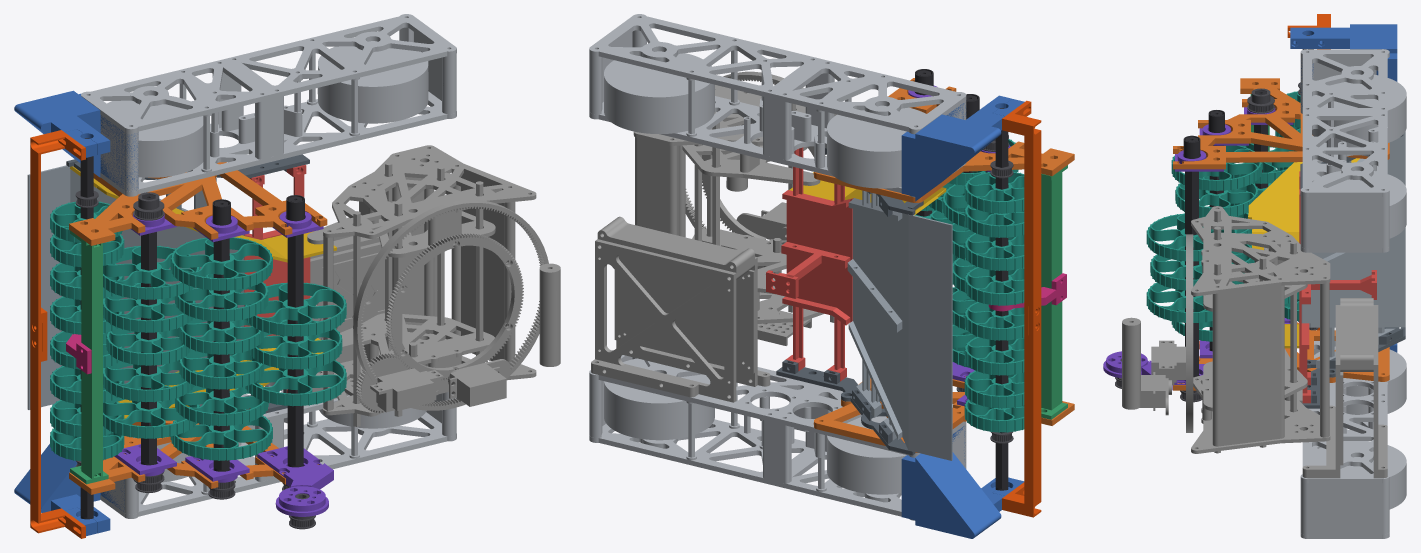
Rendered from Scrimmage_bot.fbx.
3 views of the same model, side by side, from view 1: azimuth 30°, elevation 25°; view 2: azimuth 150°, elevation 25°; view 3: azimuth 270°, elevation 25° (orthographic). The views are drawn at different scales.
Visible parts, largest first — view 1: Body1 (×66), outer_2, support_back, inner_1, Body2 (×2), spinner, support_motor_v2, hub mount, plate (1), inner_1 (1), outer_1, inner_wall_2 (1) (+2 smaller); view 2: Body1 (×47), hub mount, plate, support_motor_v2, center joint, inner_1 (1), plate (1), inner_1, lower mount, outer_2, outer_1, ball stopper (+2 smaller); view 3: Body1 (×35), support_back, outer_2, center joint, outer_1, Body2 (×2), spinner, support_motor_v2, inner_1, plate, plate (1), upper mount (+4 smaller).
Part boxes in pixels (x1,y1,x2,y2): Body1 (×66): (14,14,548,538); outer_2: (323,145,536,238); support_back: (451,172,515,362); inner_1: (340,313,494,364); Body2 (×2): (376,364,506,410); spinner: (539,263,560,366); support_motor_v2: (392,177,434,325); hub mount: (310,252,384,363); plate (1): (310,242,437,331); inner_1 (1): (307,201,495,257); outer_1: (323,332,536,416); inner_wall_2 (1): (428,211,461,245); Body1 (×47): (589,14,1074,538); hub mount: (614,255,754,373); plate: (595,239,736,402); support_motor_v2: (635,137,677,235); center joint: (597,216,754,279); inner_1 (1): (682,121,820,185); plate (1): (616,256,757,386); inner_1: (692,228,786,294); lower mount: (591,359,698,397); outer_2: (633,85,805,145); outer_1: (757,292,824,323); ball stopper: (736,213,786,240); Body1 (×35): (1103,24,1406,538); support_back: (1212,285,1284,446); outer_2: (1191,206,1330,296); center joint: (1340,298,1373,371); outer_1: (1191,375,1330,453); Body2 (×2): (1140,344,1185,410); spinner: (1122,317,1140,409); support_motor_v2: (1320,283,1329,437); inner_1: (1201,349,1307,411); plate: (1373,305,1378,478); plate (1): (1335,305,1340,478); upper mount: (1302,405,1335,478).
Size of the model in its own units: 476 by 404 by 321.
